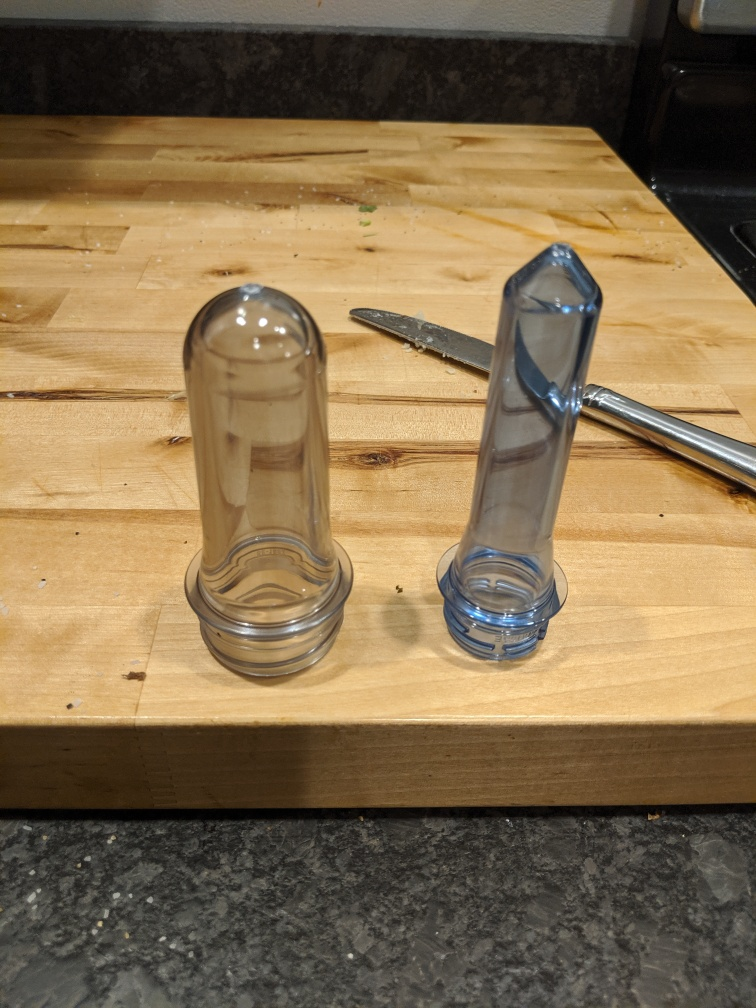preform: (164, 270, 361, 684), (429, 233, 608, 669)
